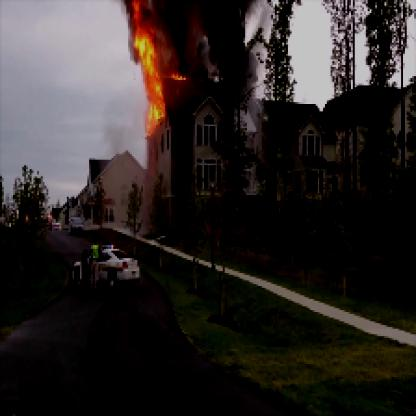Fire: (130, 2, 186, 134)
Smoke: (152, 2, 253, 95)
